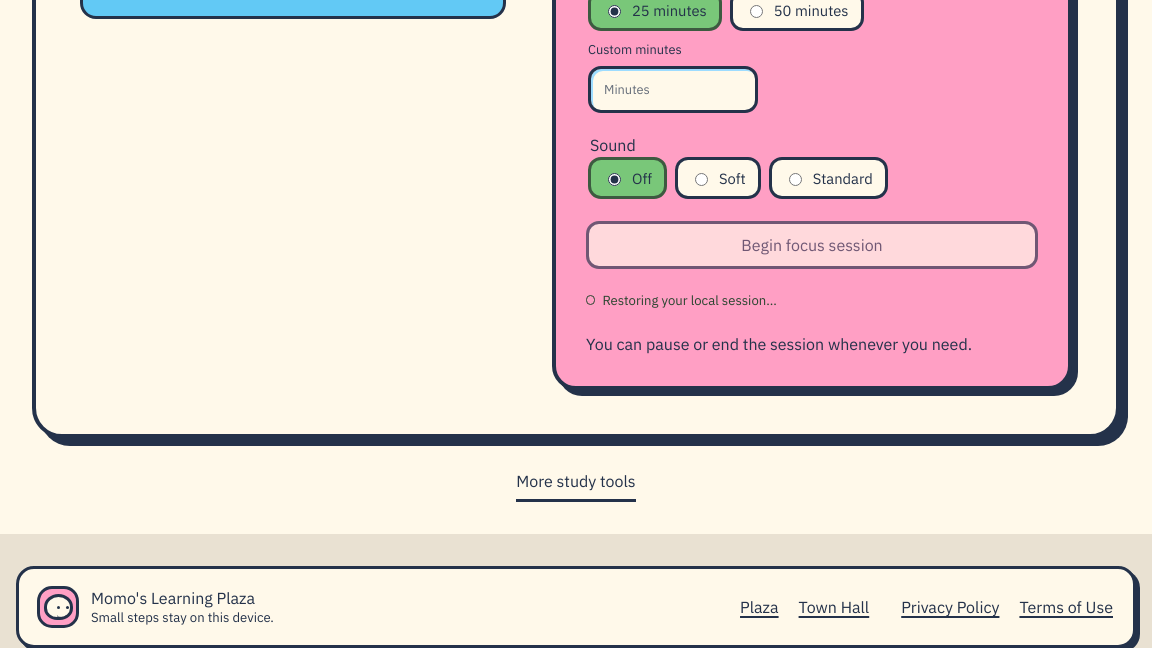
Test: reflection, garden, and data controls › requires typed confirmation and announces successful local deletion
(page scrolled)
Click the button "More study tools".
click(576, 482)  # box [516,462,636,502]
(page scrolled)
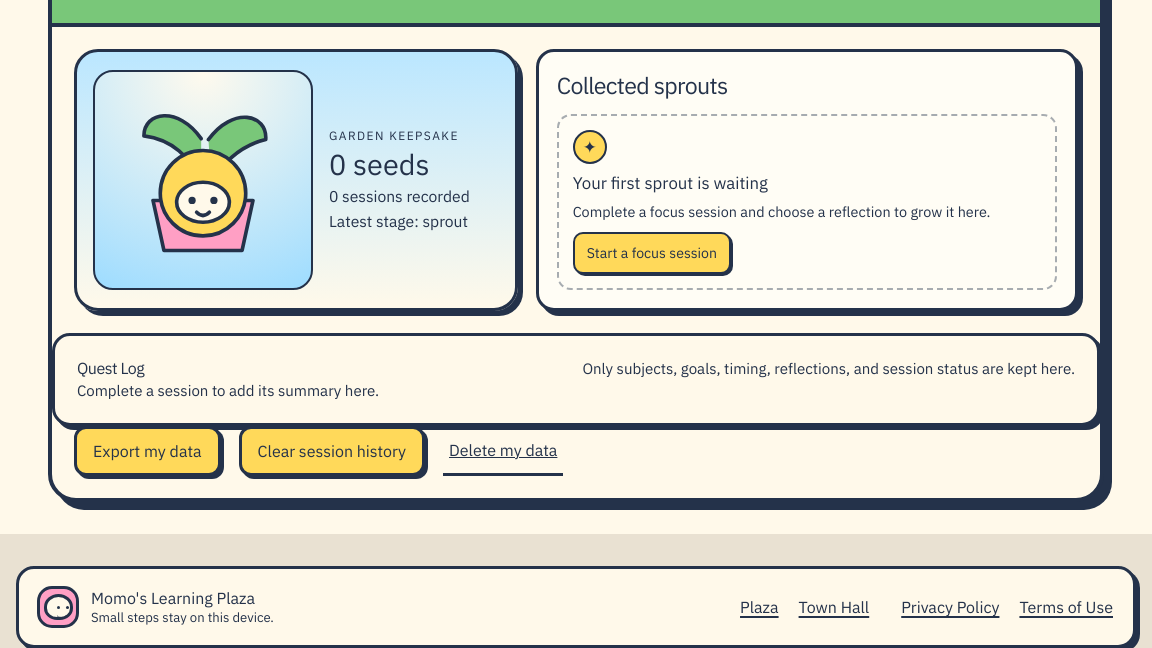
Click the button "Delete my data".
click(503, 451)  # box [443,426,563,476]
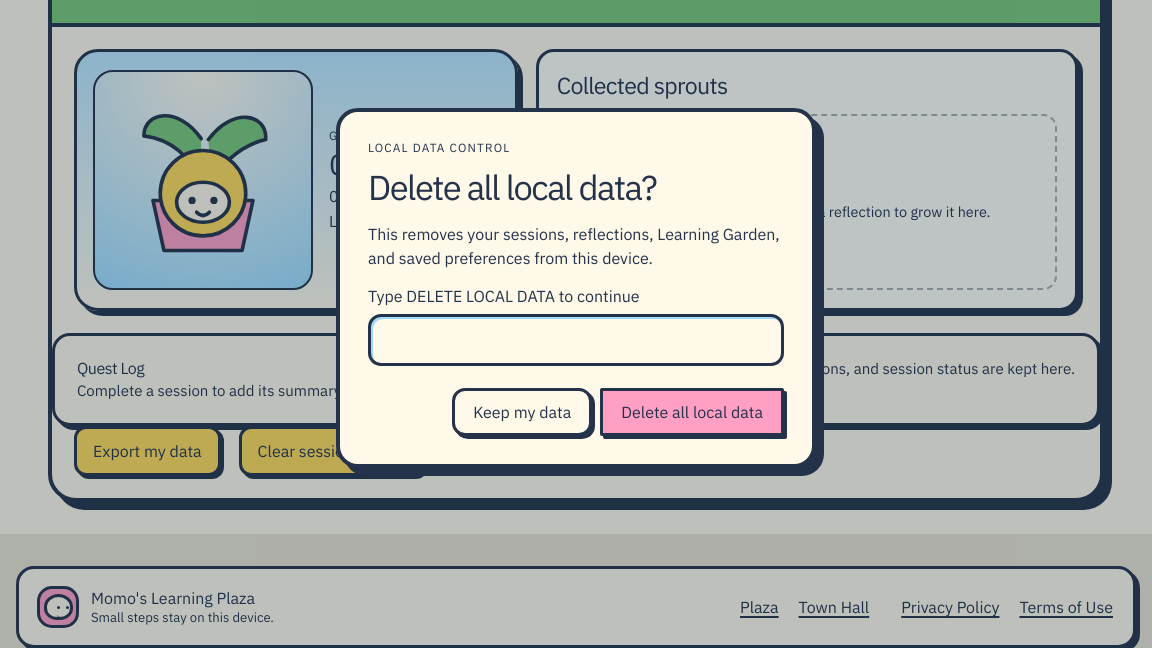
Expected: the button "Delete all local data" is disabled, [600,388,784,436]
Type "DELETE LOCAL DATA" into the field labelled "Type DELETE LOCAL DATA".
click(576, 340); type("DELETE LOCAL DATA")  # box [368,314,784,366]
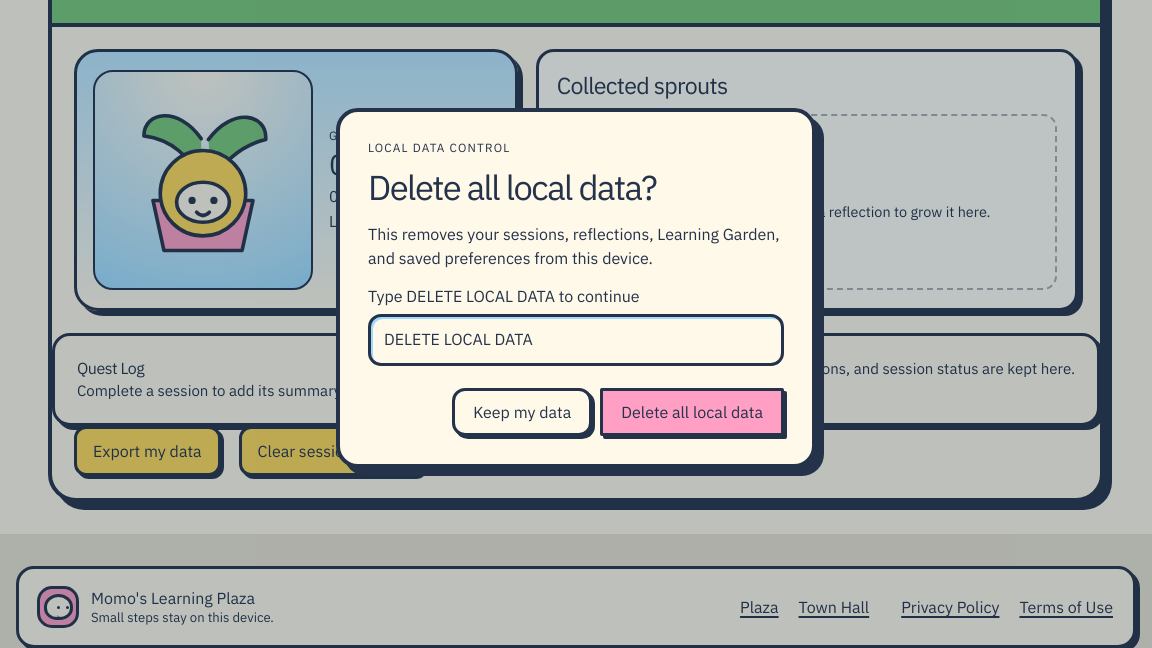
Click the button "Delete all local data".
click(692, 412)  # box [600,388,784,436]
(page scrolled)
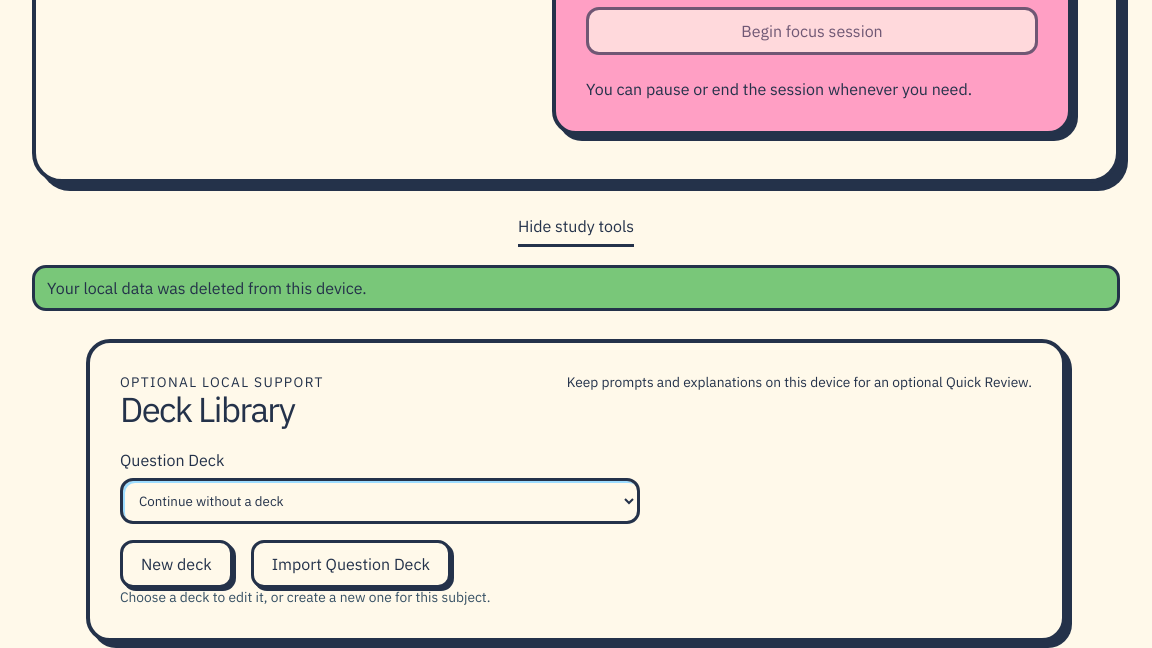
Expected: the message shows "local data was deleted", [47,278,367,298]
